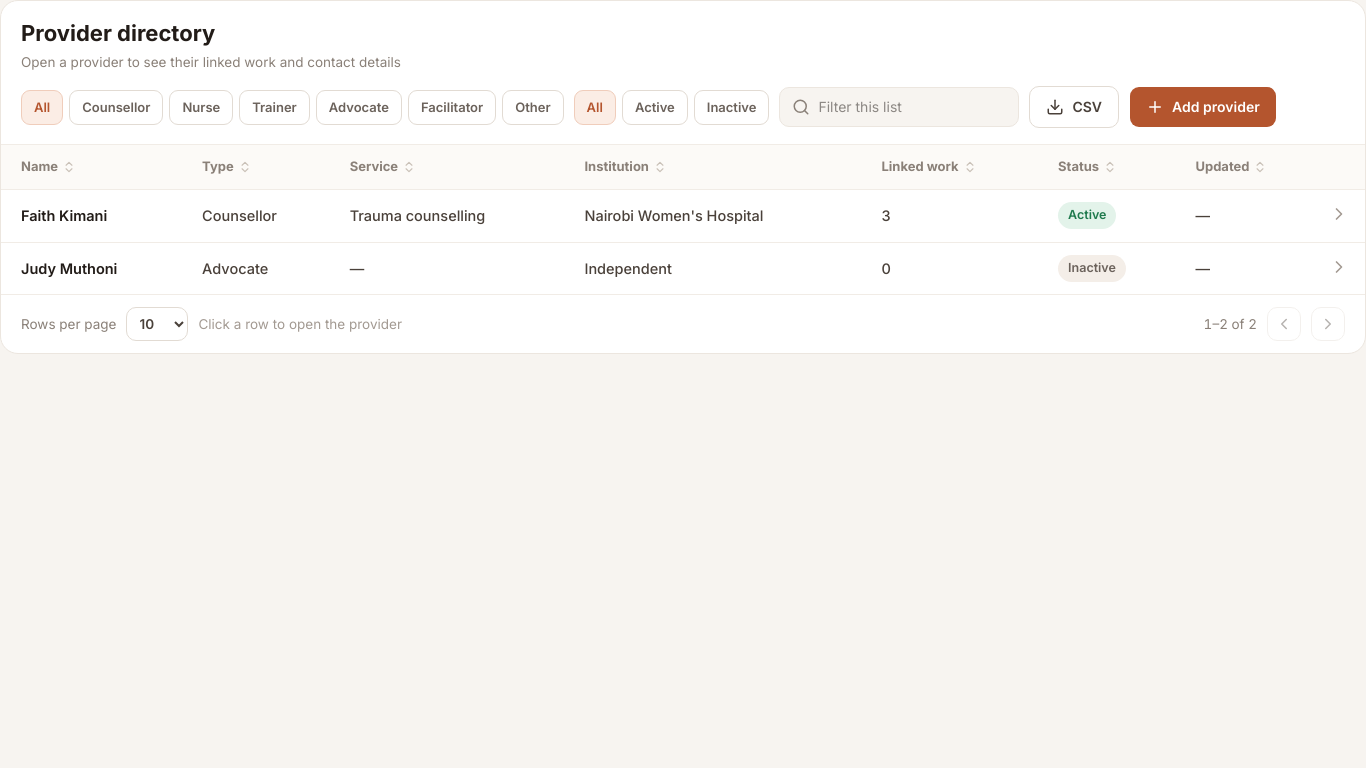
Test: provider directory › shows a failed reactivate and blocks a second click while it runs
Click the button named "Open Judy Muthoni" at point(1339, 266), box x1=1327 y1=254 x2=1351 y2=278
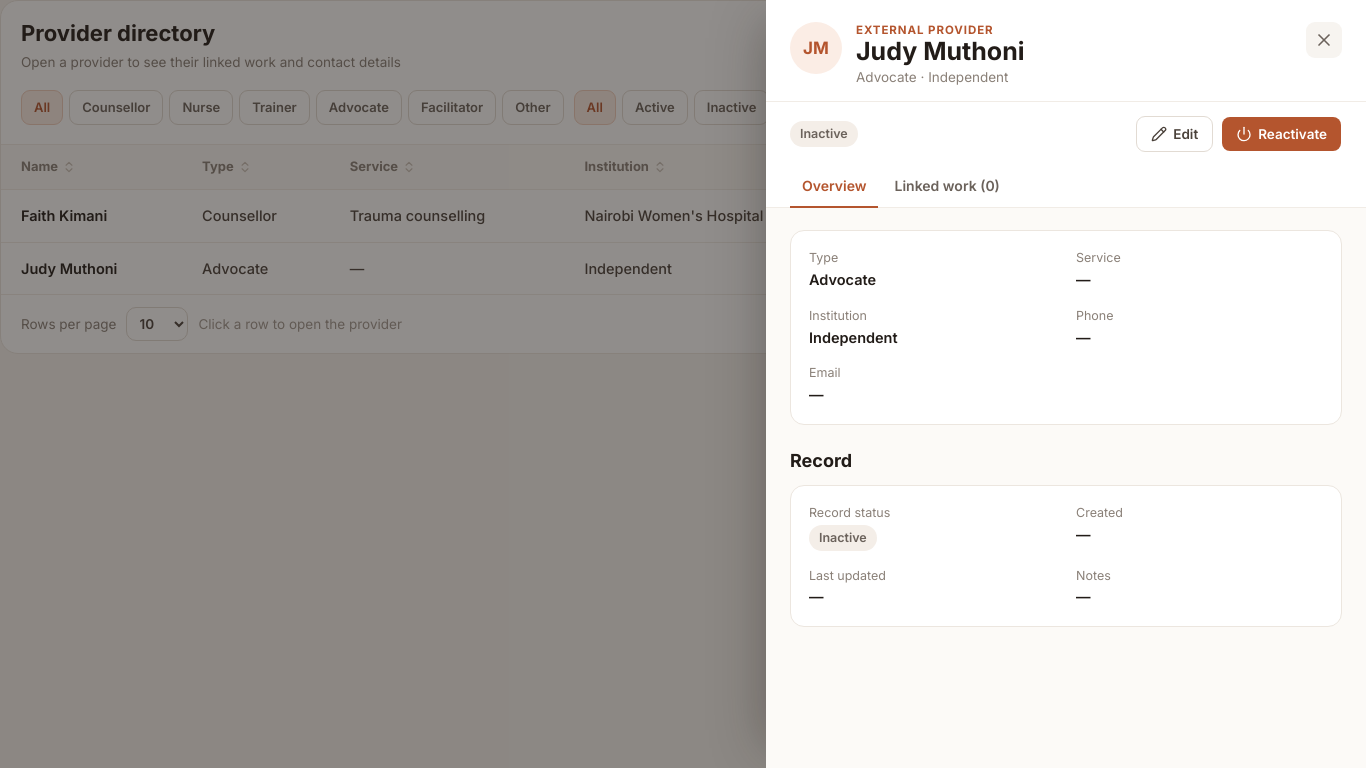
Click the button "Reactivate" at point(1282, 134), box x1=1221 y1=116 x2=1342 y2=152
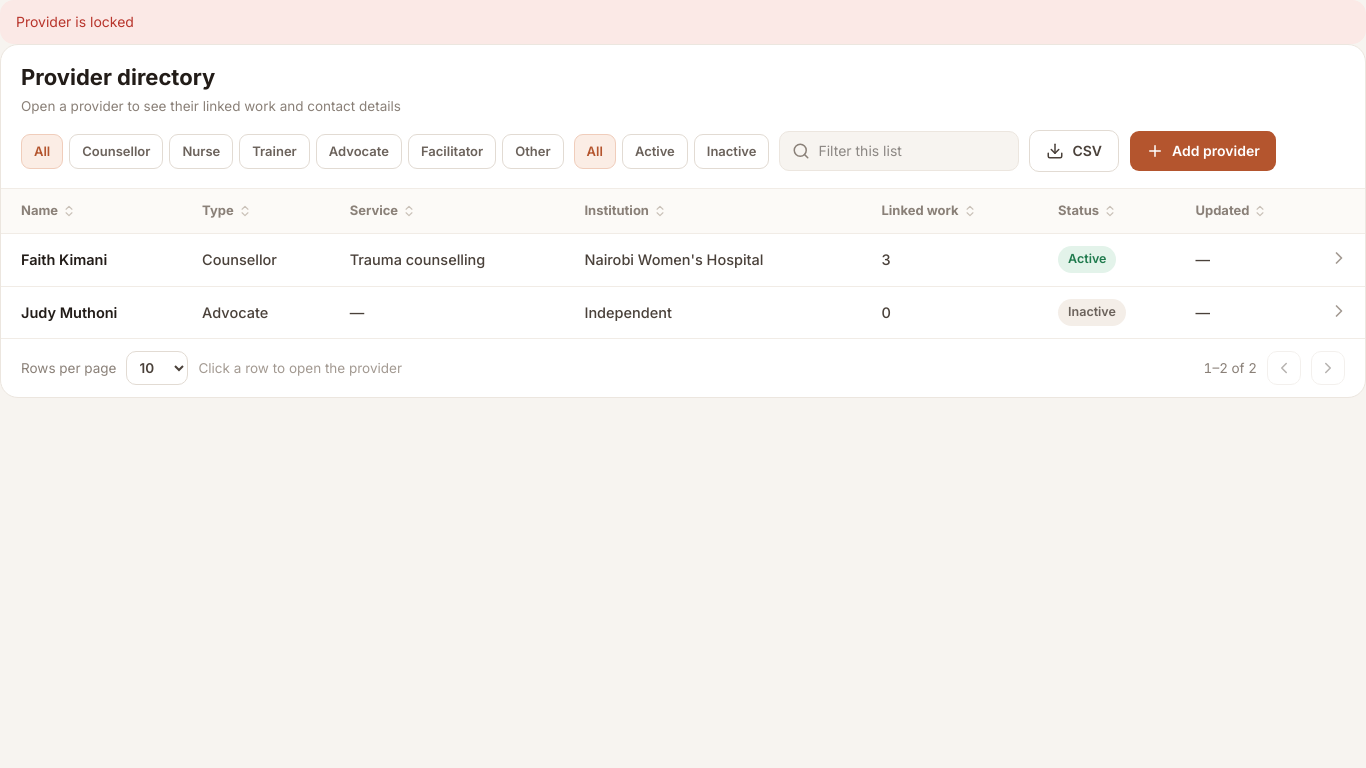
Expected: the text "Provider is locked" is shown, x1=0 y1=0 x2=1365 y2=44
Expected: the dialog is gone
